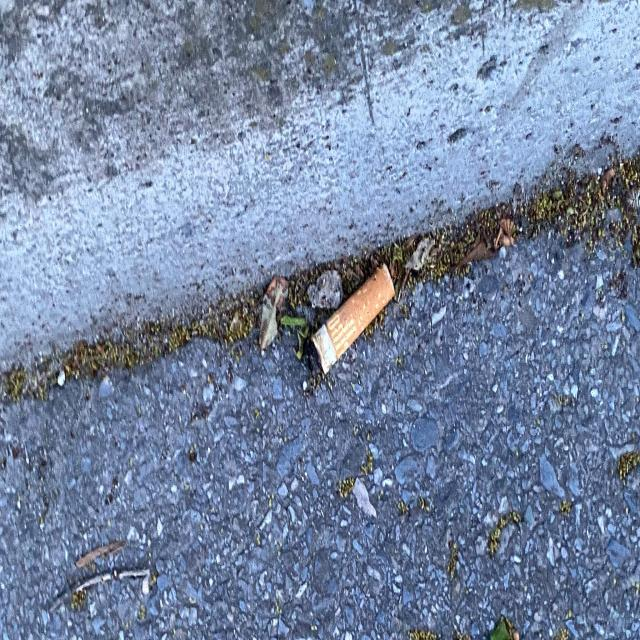other waste: (310, 261, 396, 377)
